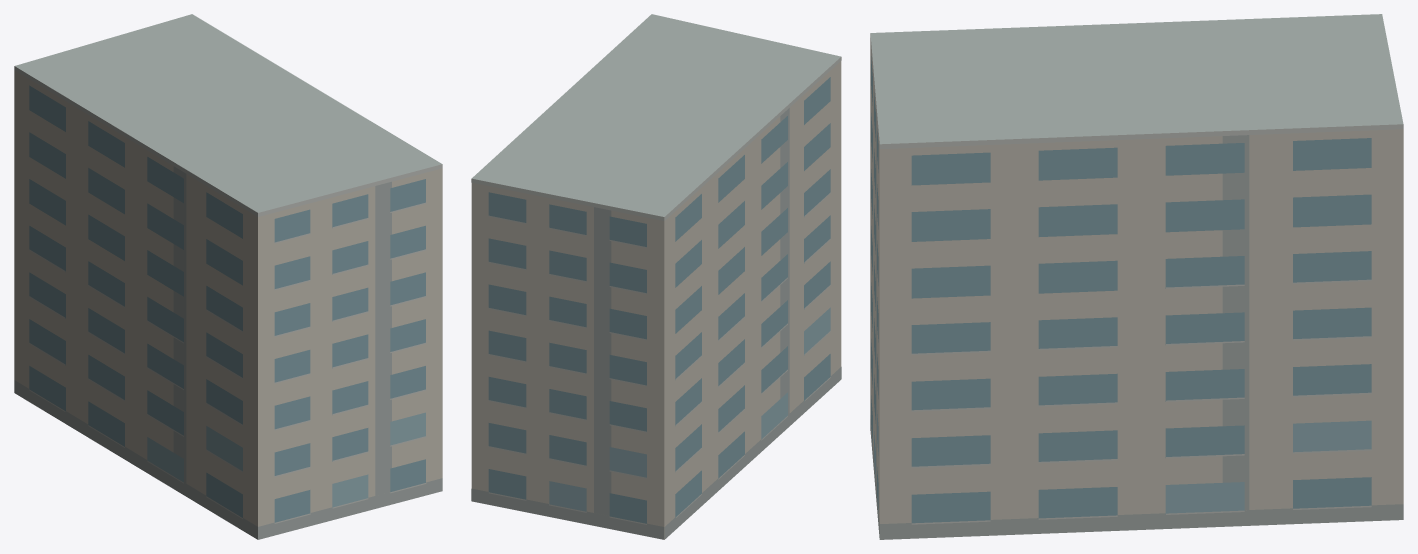
The model's file is survey-upis-32561719.glb.
3 views of the same model, side by side, from view 1: azimuth 30°, elevation 25°; view 2: azimuth 150°, elevation 25°; view 3: azimuth 270°, elevation 25° (orthographic). The views are drawn at different scales.
Parts seen in each view (by area): view 1: survey-upis-32561719.tmp; view 2: survey-upis-32561719.tmp; view 3: survey-upis-32561719.tmp.
Boxes of the visible parts, x1,y1,x2,y2 form: survey-upis-32561719.tmp: [14, 14, 442, 539]; survey-upis-32561719.tmp: [471, 14, 841, 539]; survey-upis-32561719.tmp: [870, 14, 1403, 539].
Size of the model in its own units: 13.77 by 19.5 by 23.82.
